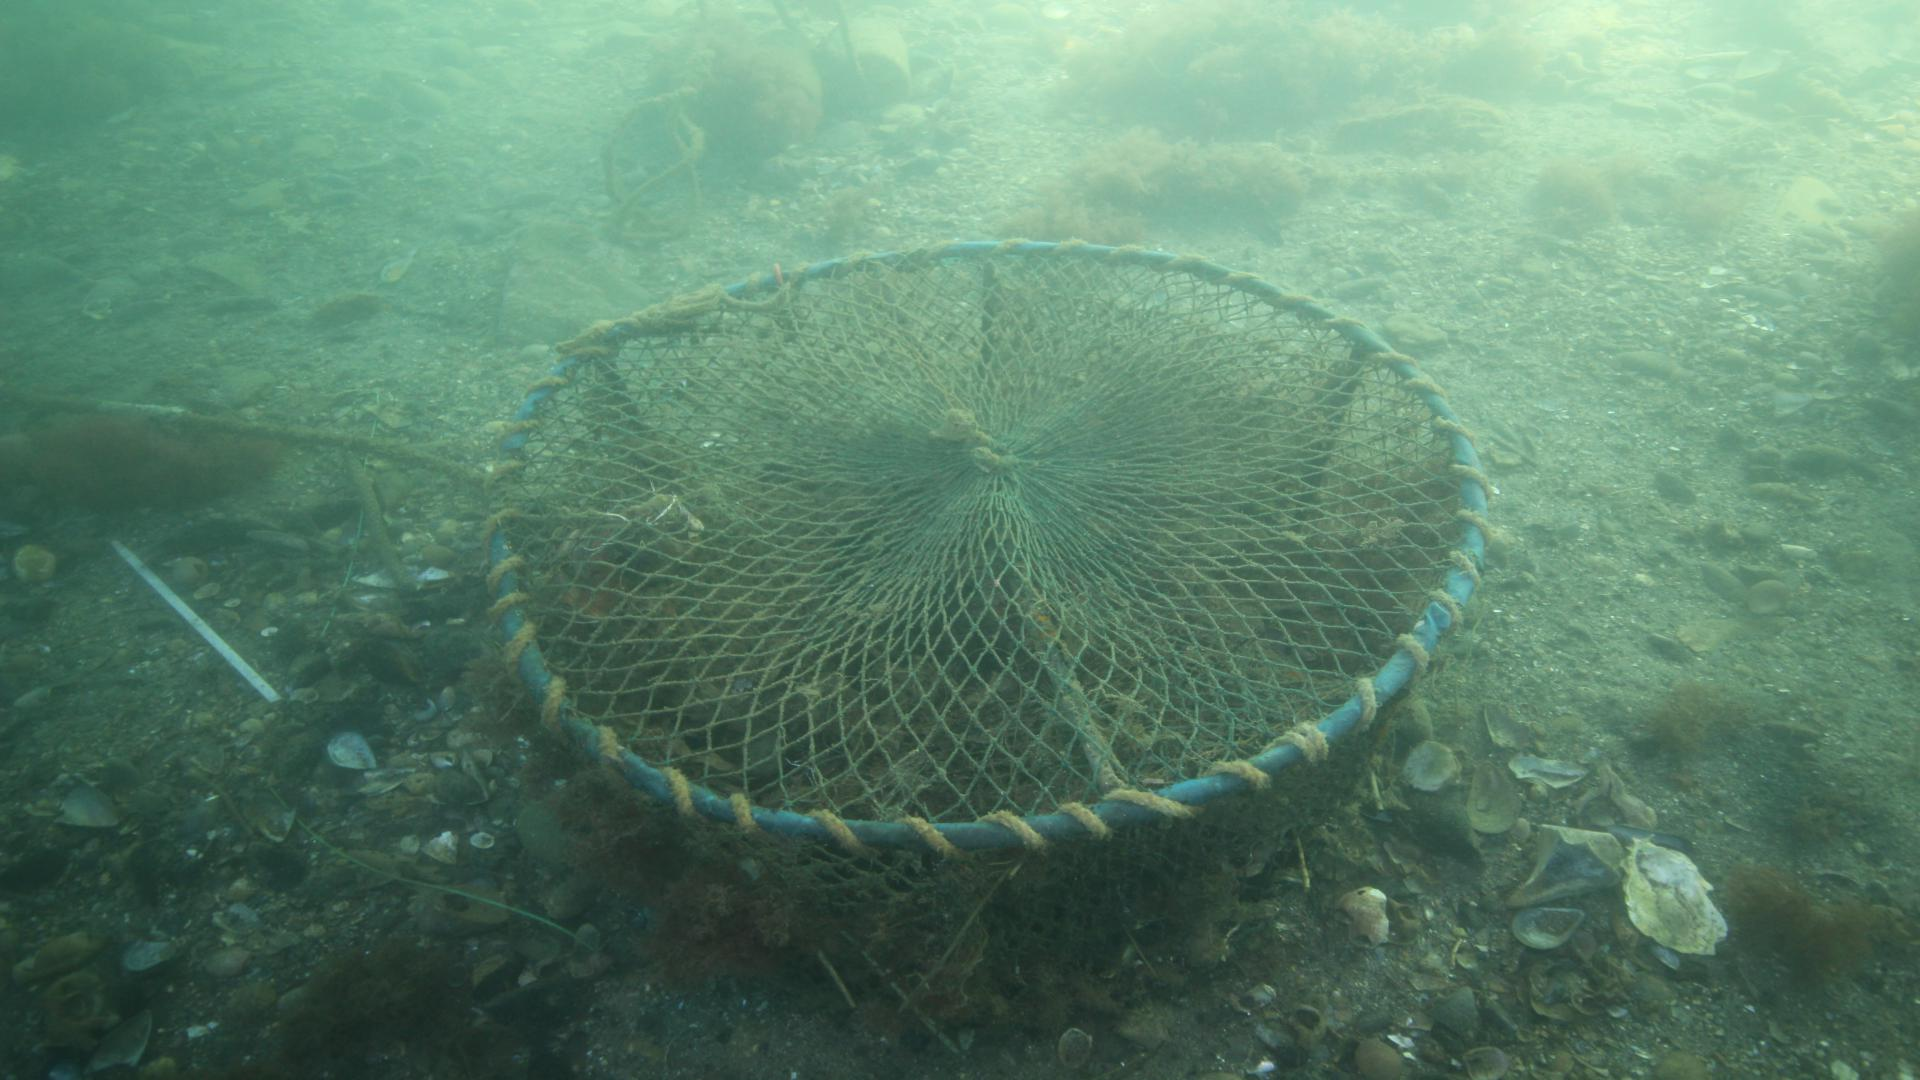circular fish trap: (476, 233, 1498, 1004)
